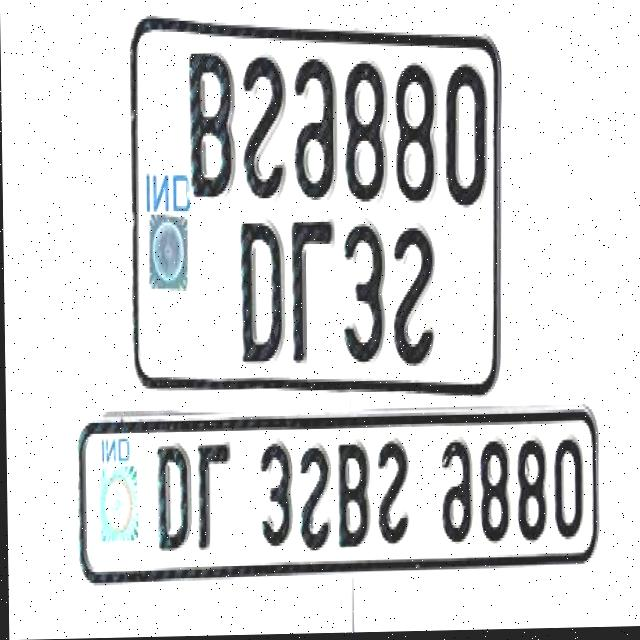plate: (126, 9, 509, 402), (76, 404, 600, 584)
